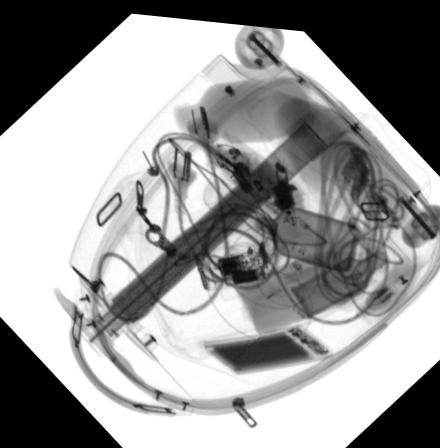Powerbank: (203, 316, 333, 370)
